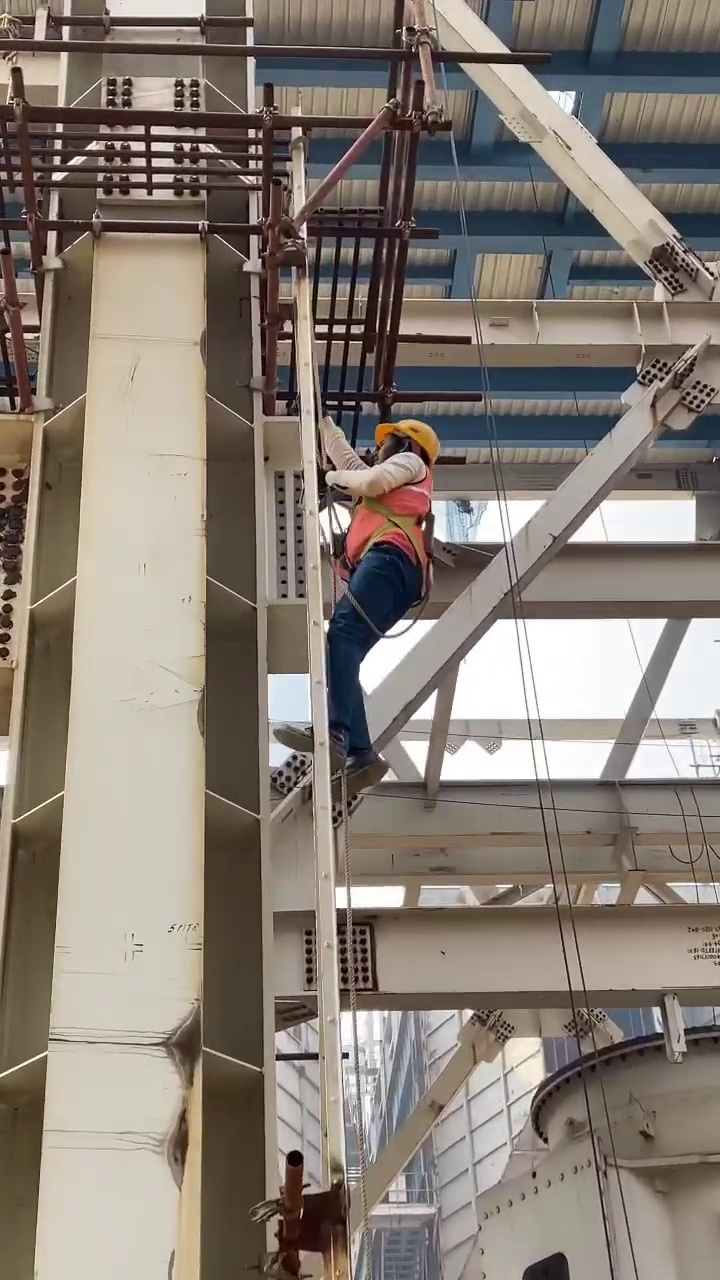Helmet: (372, 417, 440, 455)
Person: (276, 414, 442, 797)
Safety_Harness: (335, 468, 438, 630)
Safety_shoes: (271, 722, 348, 772), (305, 755, 390, 796)
